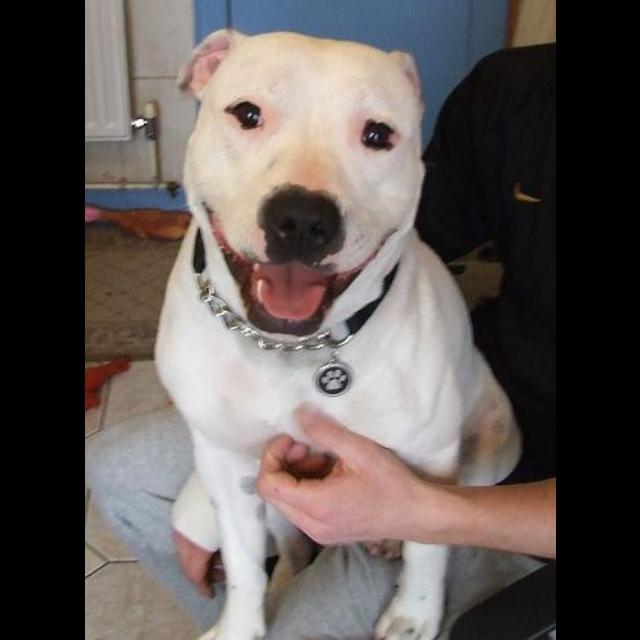staffford: (154, 29, 523, 640)
